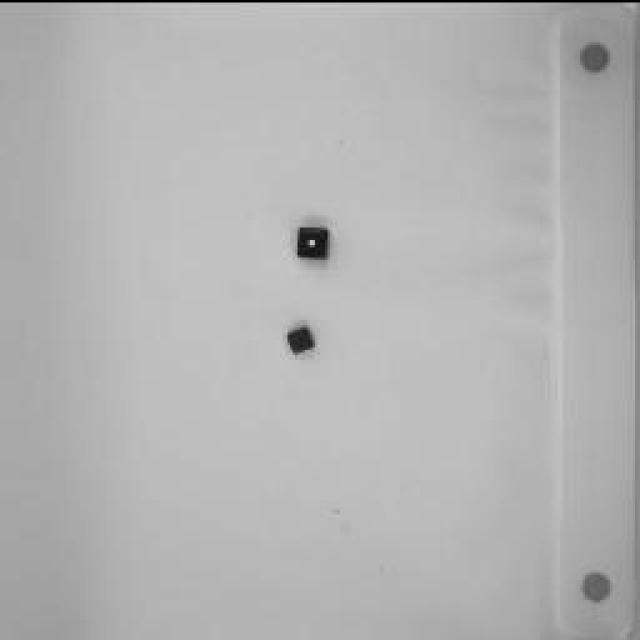dice_1: (295, 225, 335, 257)
dice_2: (285, 324, 320, 354)
